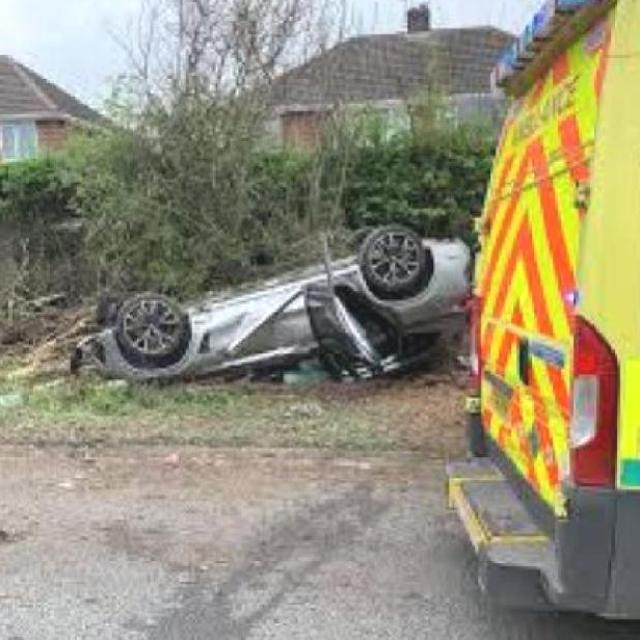accident: (65, 215, 475, 393)
